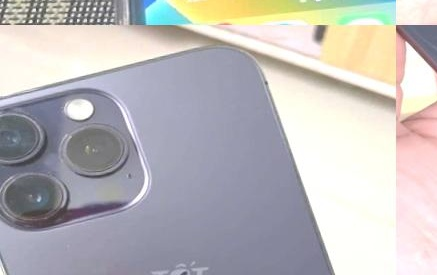scratch: (42, 115, 145, 193), (0, 105, 51, 174)
